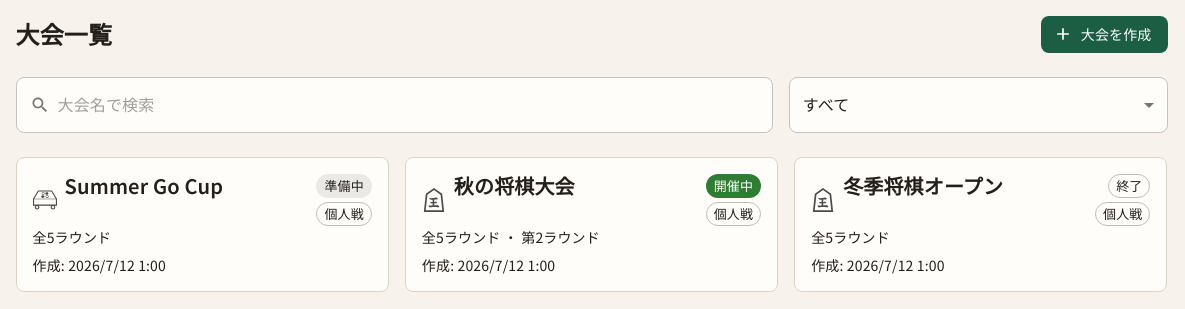
Test: TournamentListPage › TRN-AC-020: 大会名の部分一致検索(大文字小文字を区別しない)で、一致する大会だけが表示される
Expected: the heading "Summer Go Cup" is shown, [64,174,223,220]
Type "go" into the field labelled "大会名で検索" at point(415, 104), box [58,76,773,132]
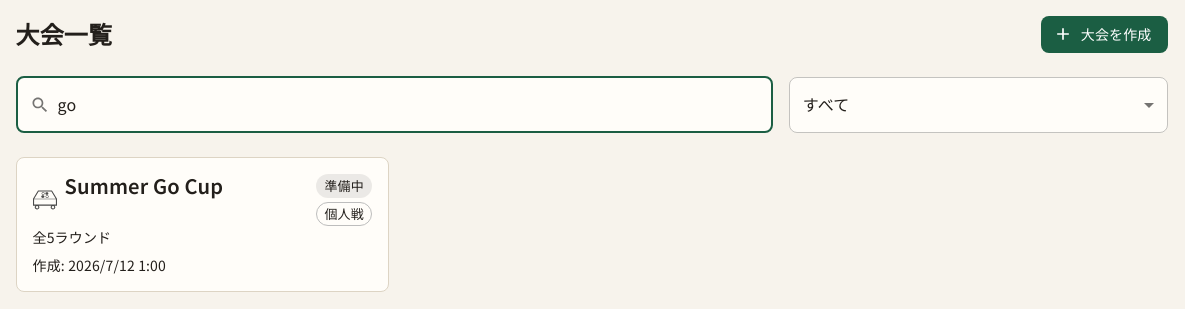
Expected: the heading "Summer Go Cup" is shown, [64,174,223,220]
Now the link "秋の将棋大会" is gone
Now the link "冬季将棋オープン" is gone
